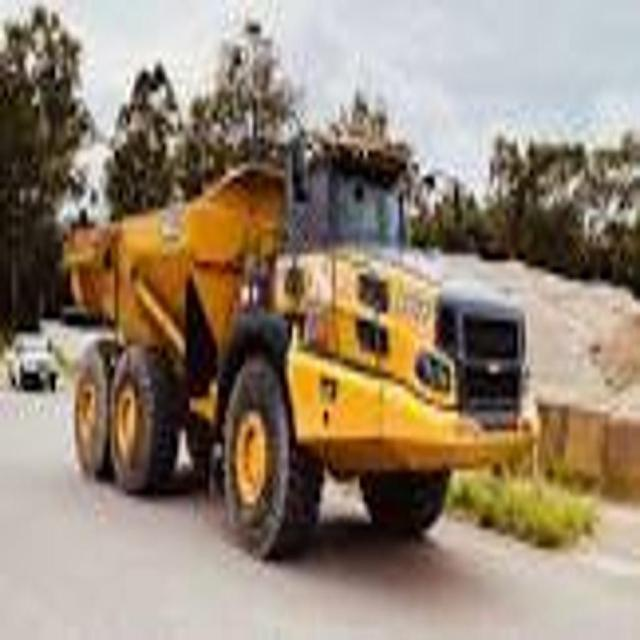dump_truck: (54, 128, 542, 574)
